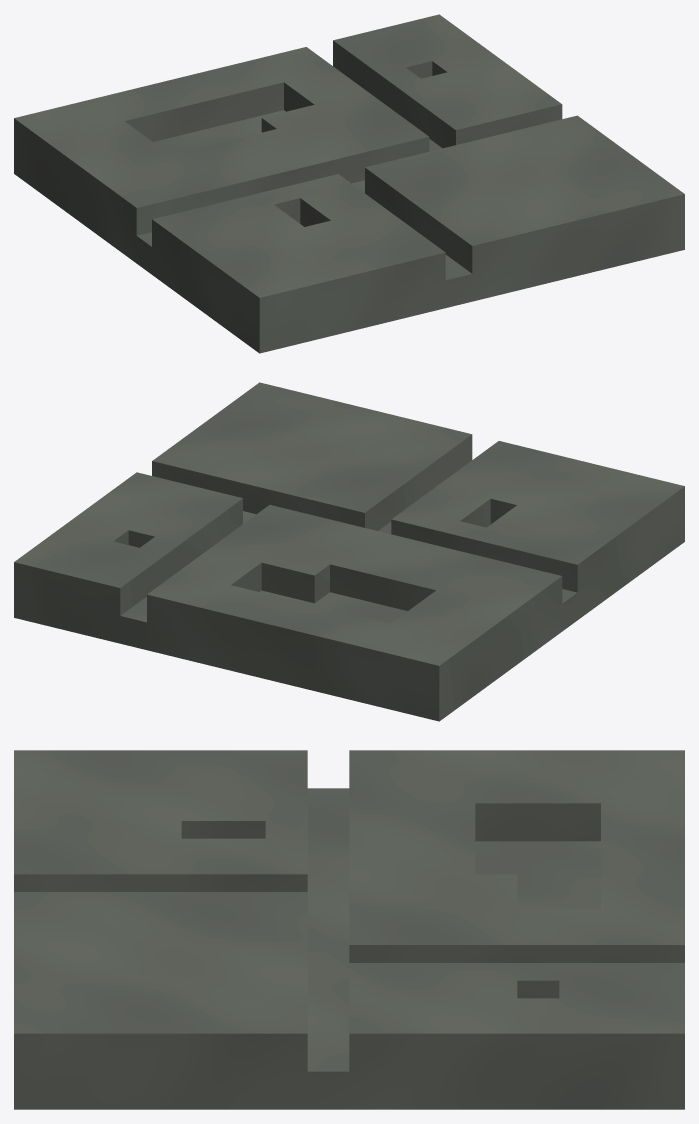
Rendered from FLOOR_C.glb.
3 renders of one model, top to bottom at view 1: azimuth 30°, elevation 25°; view 2: azimuth 150°, elevation 25°; view 3: azimuth 270°, elevation 25°, orthographic. The views are drawn at different scales.
Parts seen in each view (by area): view 1: FLOOR_C; view 2: FLOOR_C; view 3: FLOOR_C.
Part boxes in pixels (<box>): FLOOR_C: <box>14,14,684,353</box>; FLOOR_C: <box>14,382,684,721</box>; FLOOR_C: <box>14,750,684,1109</box>.
Size of the model in its own units: 2 by 0.25 by 2.
Materials: 1 (1 with a texture image).
